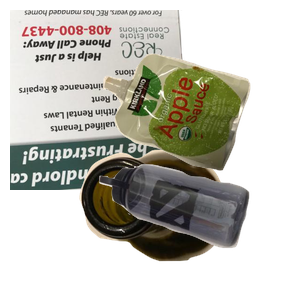glass: (77, 147, 295, 300)
paper: (10, 10, 201, 190)
plastic: (97, 162, 300, 300)
trash: (100, 51, 300, 214)
